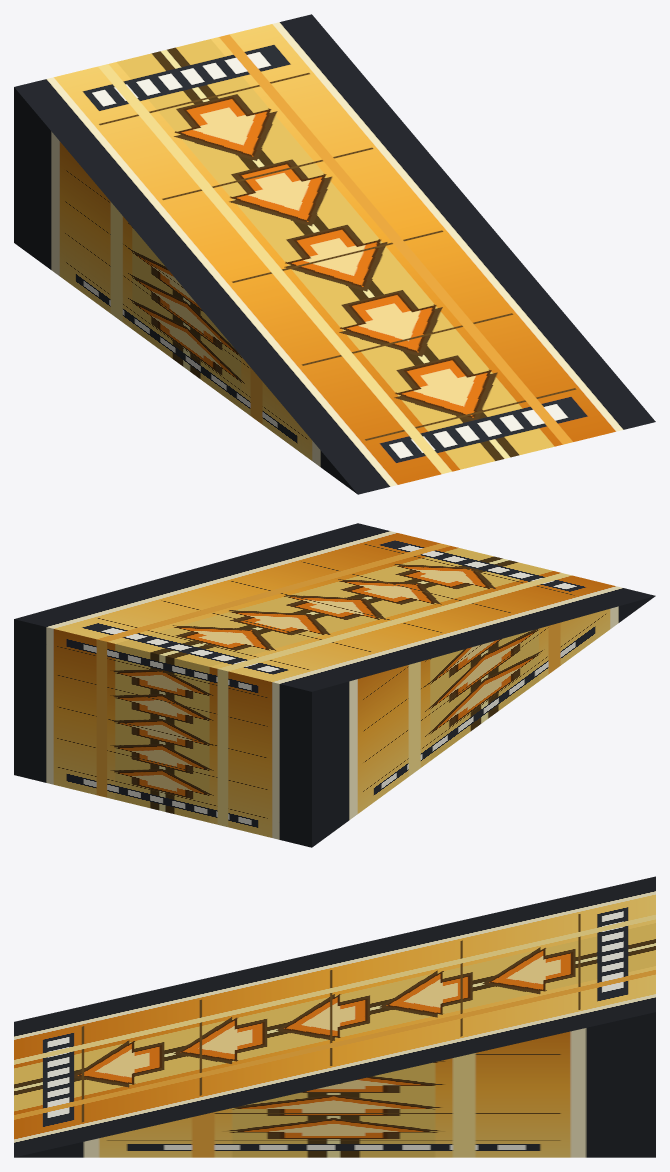
The model's file is Ramp_01d.glb.
The picture shows the model from 3 angles, top to bottom: view 1: azimuth 30°, elevation 25°; view 2: azimuth 150°, elevation 25°; view 3: azimuth 270°, elevation 25°; orthographic projection. The views are drawn at different scales.
Parts seen in each view (by area): view 1: Ramp_01_Yellow_Orange_Arrows_Fixed; view 2: Ramp_01_Yellow_Orange_Arrows_Fixed; view 3: Ramp_01_Yellow_Orange_Arrows_Fixed.
Part boxes in pixels (<box>): Ramp_01_Yellow_Orange_Arrows_Fixed: <box>14,14,655,494</box>; Ramp_01_Yellow_Orange_Arrows_Fixed: <box>14,523,655,847</box>; Ramp_01_Yellow_Orange_Arrows_Fixed: <box>14,876,655,1157</box>.
Bounding box in the file's own units: 4 × 2 × 8.
Materials: 1 (1 with a texture image).
